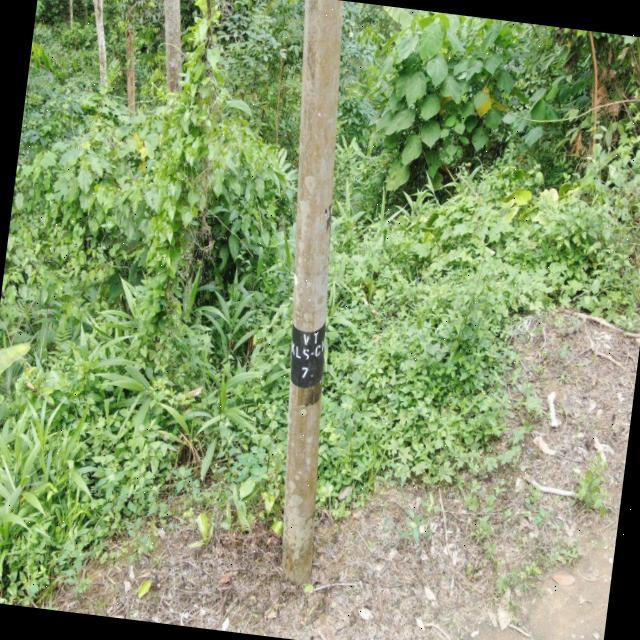critical vegetation: (109, 0, 230, 390)
